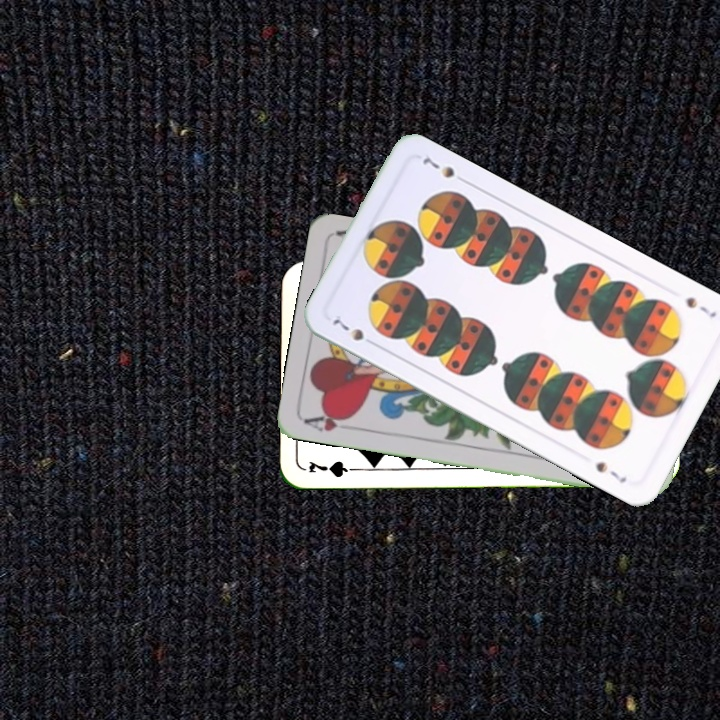G7: (304, 456, 363, 480)
HA: (301, 408, 357, 435)
S7: (328, 314, 380, 349), (682, 293, 719, 321)
